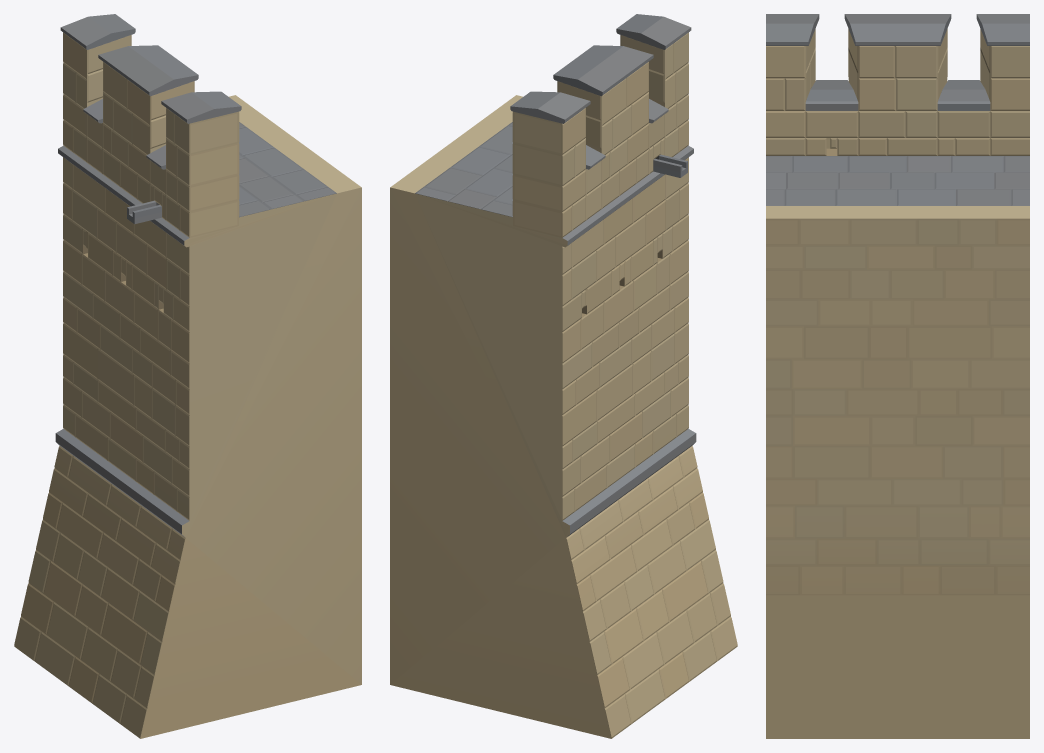
The picture shows the model from 3 angles, left to right: view 1: azimuth 30°, elevation 25°; view 2: azimuth 150°, elevation 25°; view 3: azimuth 270°, elevation 25°; orthographic projection. The views are drawn at different scales.
Visible parts, largest first — view 1: Mesh_Limestone, Mesh_Granite; view 2: Mesh_Limestone, Mesh_Granite; view 3: Mesh_Limestone, Mesh_Granite.
Part boxes in pixels (x1,y1,x2,y2): Mesh_Limestone: (14, 32, 361, 738); Mesh_Granite: (55, 14, 336, 536); Mesh_Limestone: (390, 32, 737, 738); Mesh_Granite: (415, 14, 696, 536); Mesh_Limestone: (766, 29, 1029, 738); Mesh_Granite: (766, 14, 1029, 205).
Size of the model in its own units: 4.05 by 10.7 by 4.
